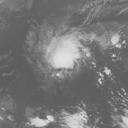cyclone: (29, 21, 95, 78)
